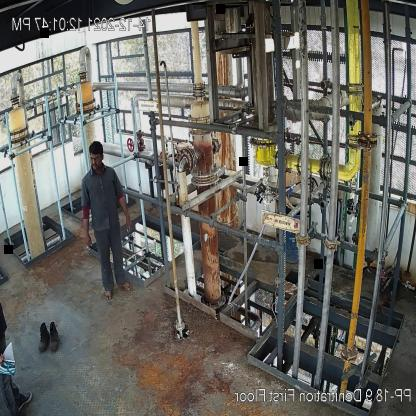no_shoes: (118, 281, 134, 291), (104, 289, 115, 302)
shoes: (46, 320, 60, 353), (37, 323, 49, 351)
